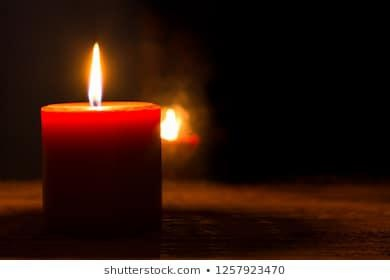fire: (85, 39, 104, 105), (158, 106, 180, 140)
